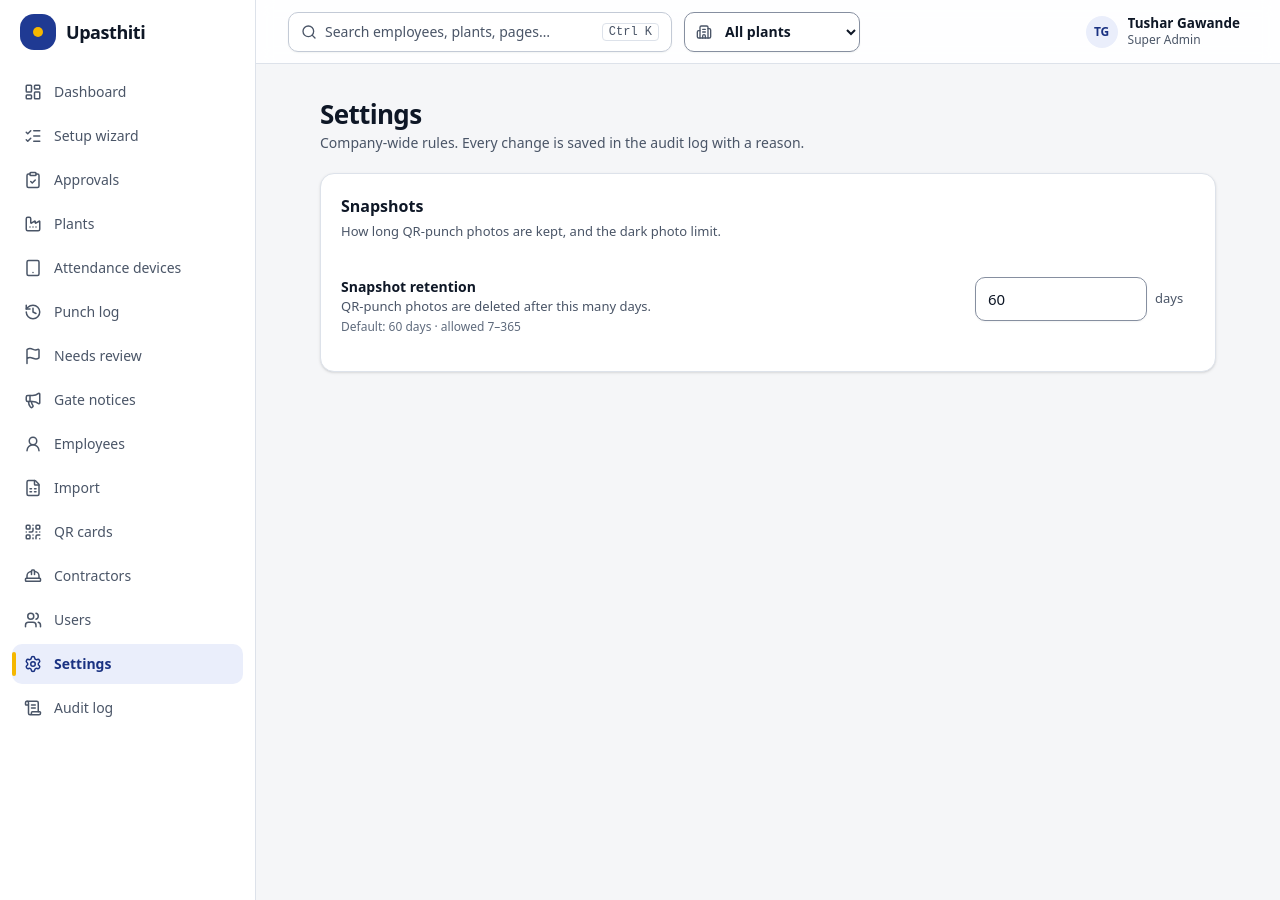
Test: face and privacy settings (spec M3 §4.12) › warns that raising the photo retention changes the consent text
Replace the text in the field labelled "Snapshot retention" with "90" at (1061, 299), box [975,277,1147,321]
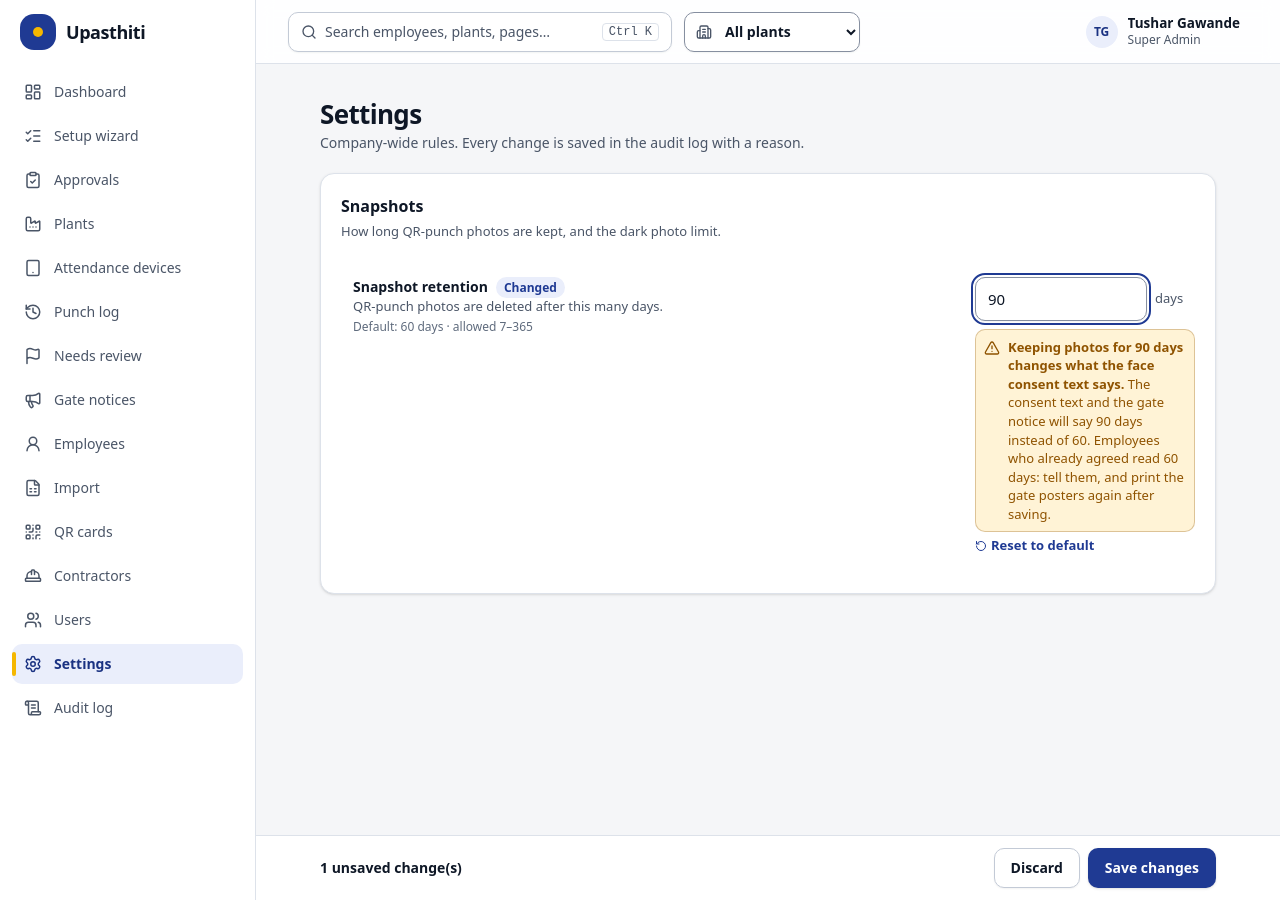
Expected: the text "Keeping photos for 90 days changes what the face consent text says." is shown, [1008,338,1183,393]
Expected: the button "Save changes" is enabled, [1088,848,1216,888]
